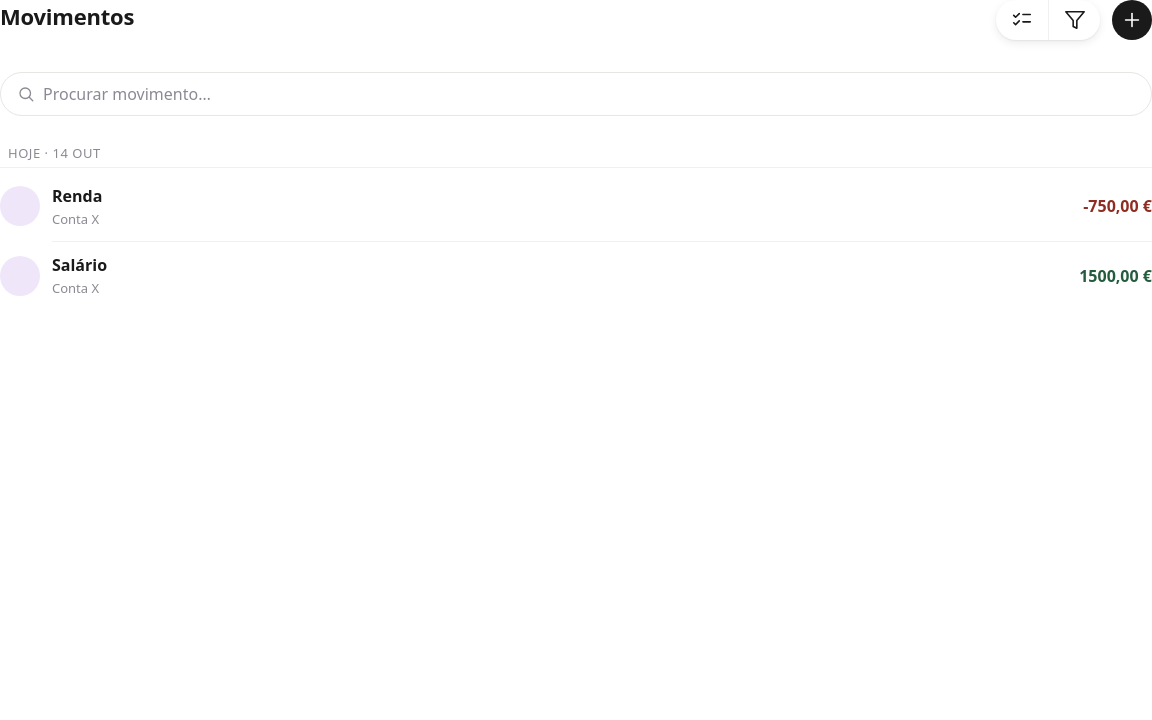
Scenario: Página Movimentos › filtra por tipo (só saídas), e assinala que há filtros ativos
Click the button named "Filtros": {"x": 1074, "y": 20} [1048,0,1100,40]
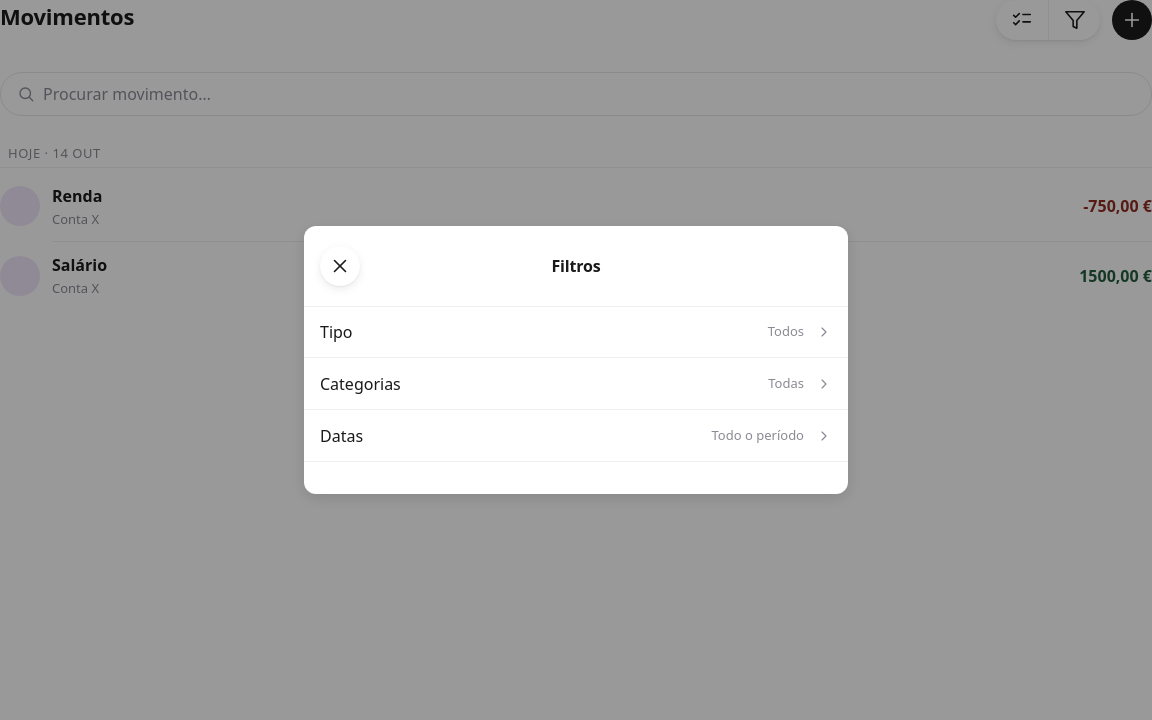
Click the button with aria-label "Tipo:": {"x": 336, "y": 332} [304,306,848,358]
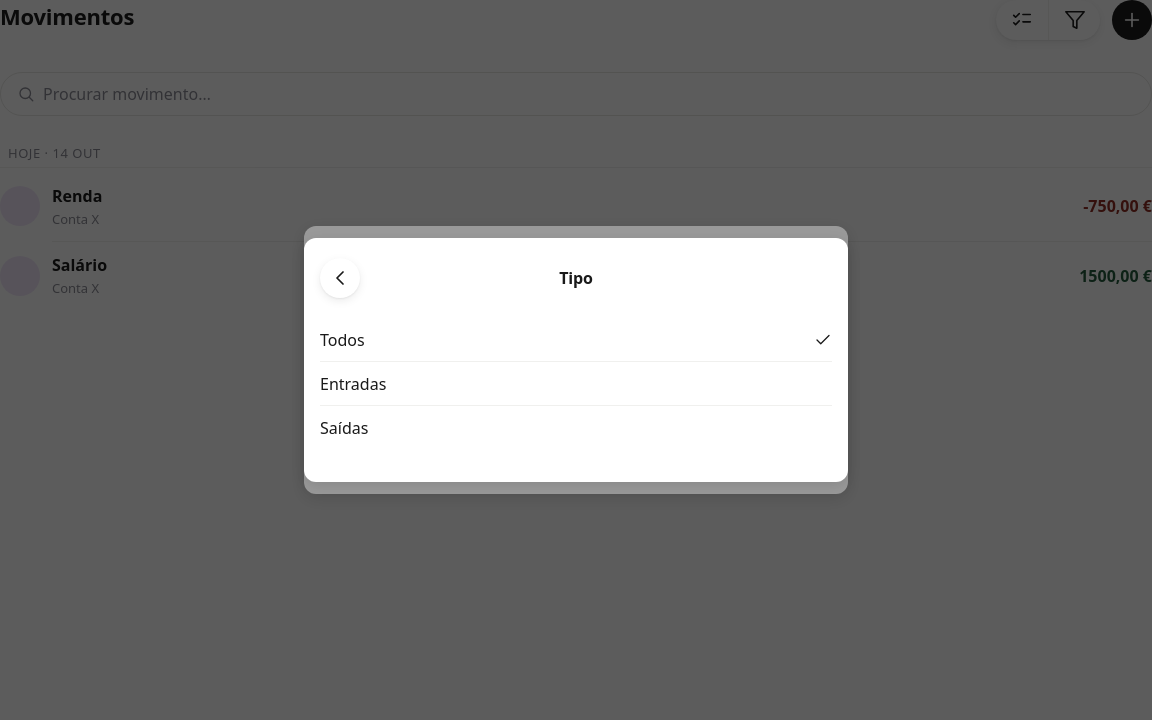
Click the button "Saídas": {"x": 344, "y": 428} [320,406,832,450]
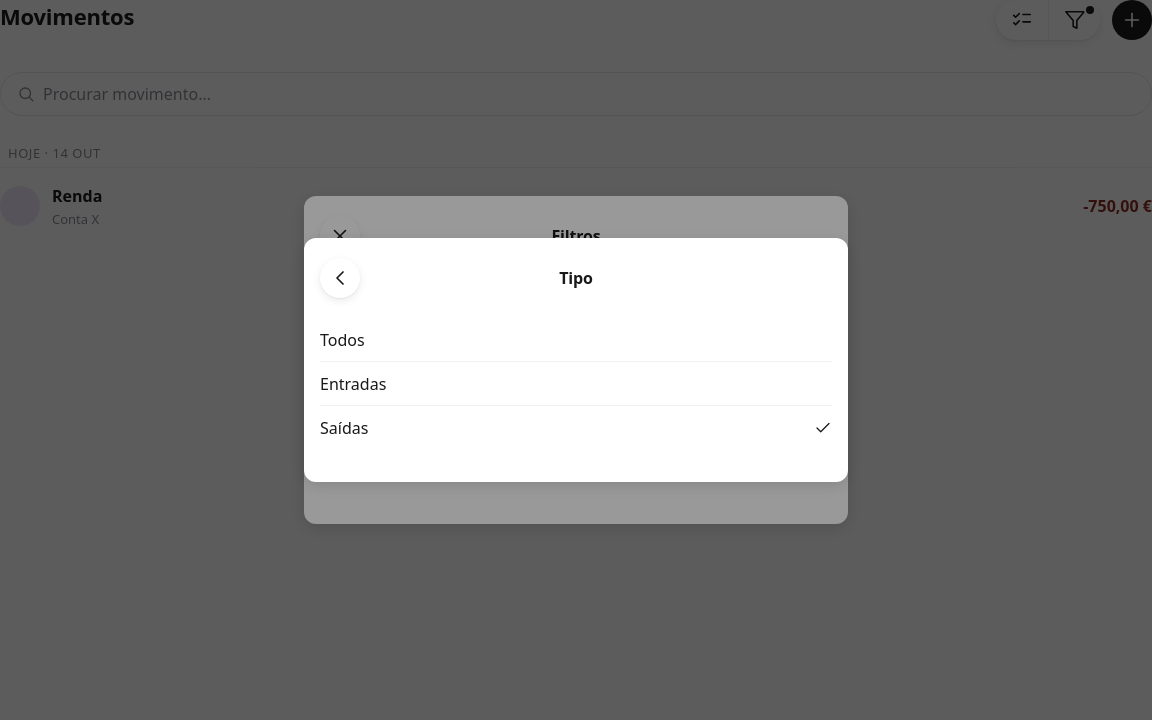
Click the button named "Voltar": {"x": 340, "y": 278} [320,258,360,298]
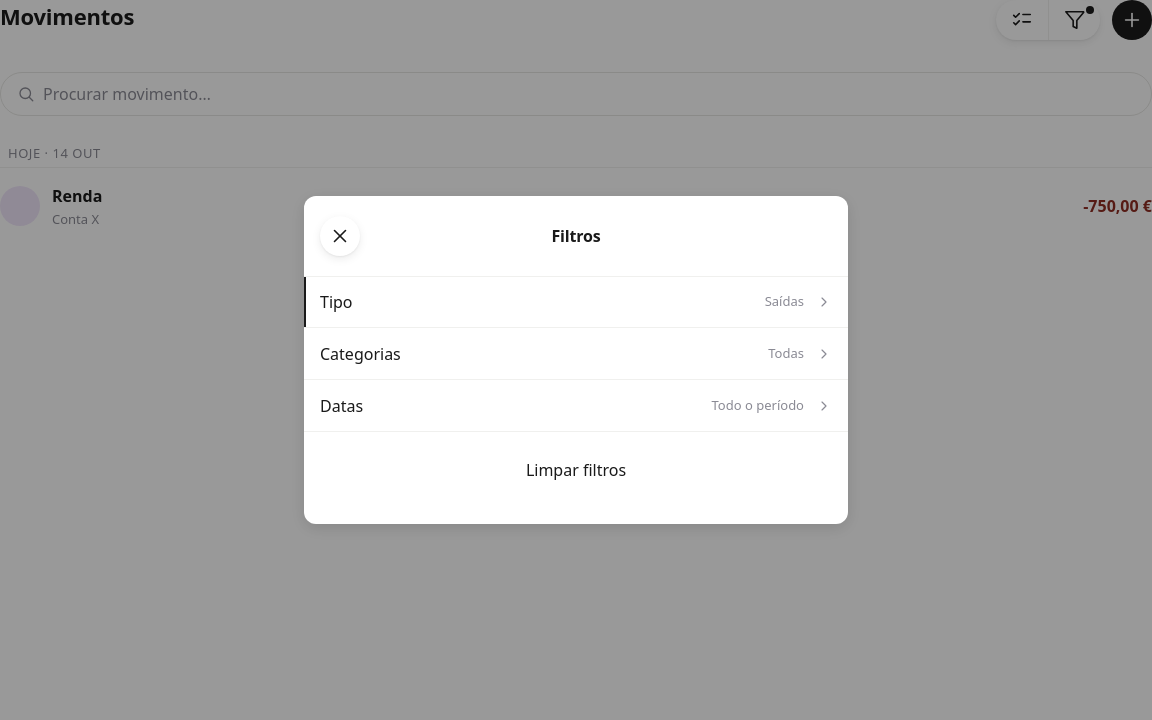
Click the button named "Fechar": {"x": 340, "y": 236} [320,216,360,256]
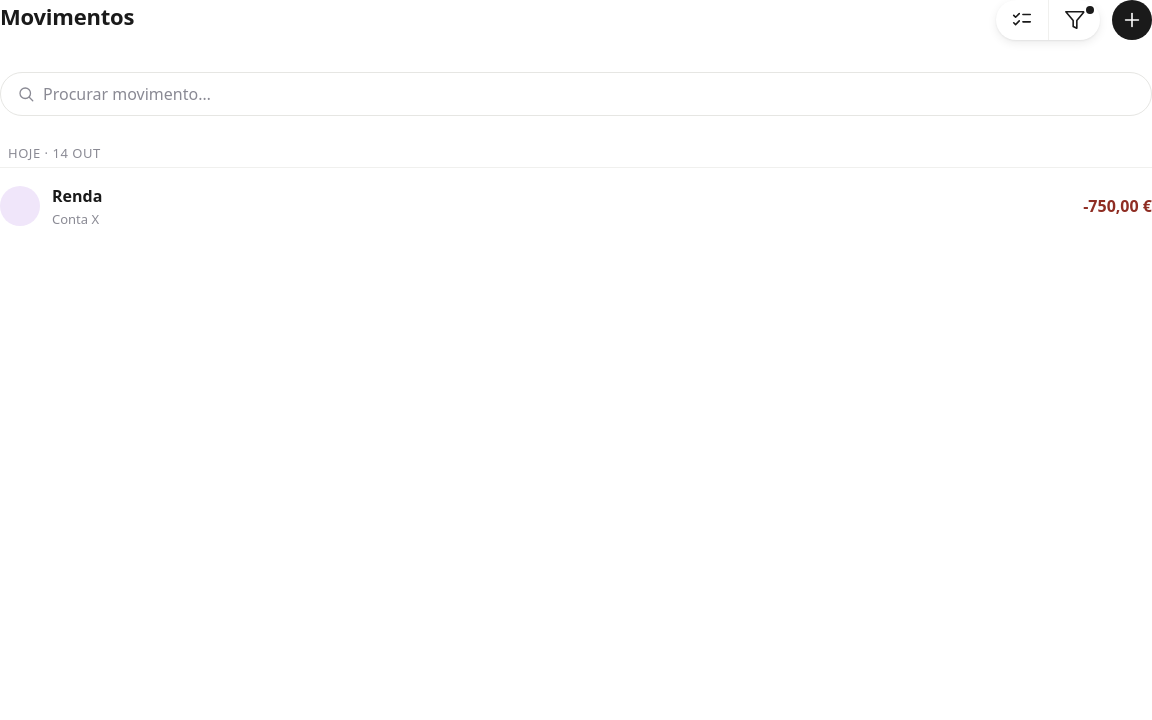
Expected: the link "Salário" is not shown
Expected: the button named "Filtros (ativos)" is shown, [1048,0,1100,40]
Expected: the text "Filtros" is gone
